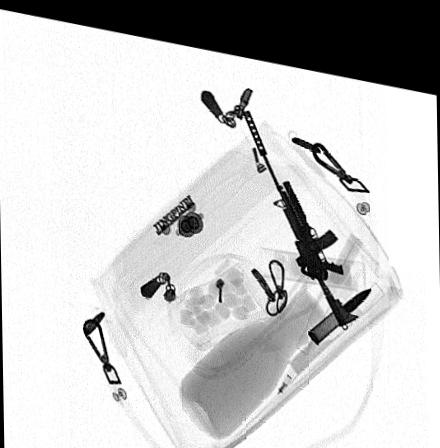Bullet: (307, 272, 373, 330)
Gun: (241, 98, 358, 313)
